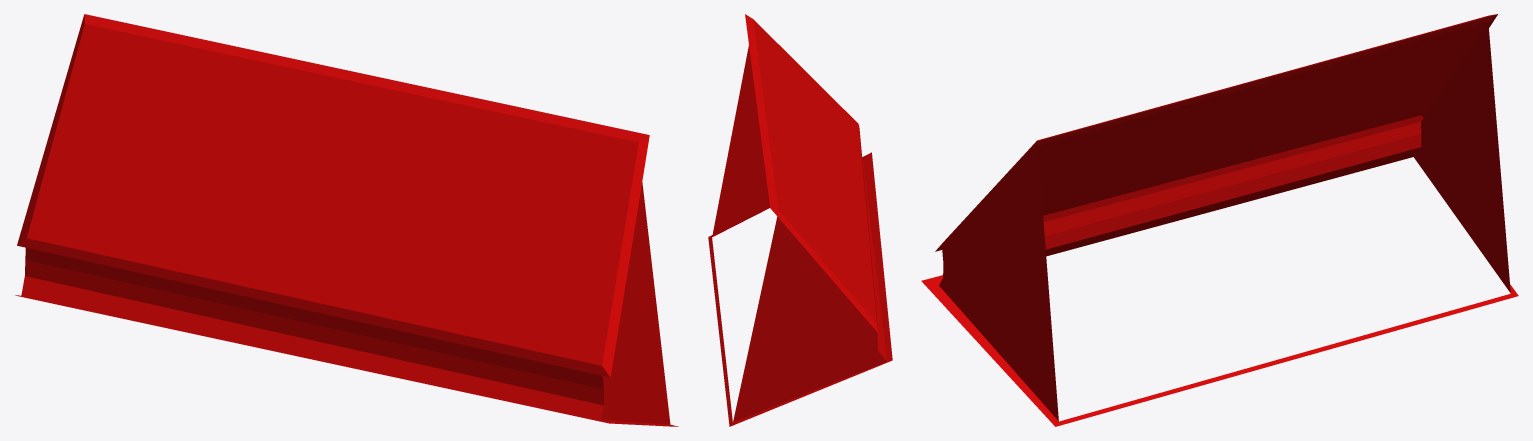
Rendered from rightCase.glb.
3 views of the same model, side by side, from view 1: azimuth 30°, elevation 25°; view 2: azimuth 150°, elevation 25°; view 3: azimuth 270°, elevation 25° (orthographic). The views are drawn at different scales.
Parts seen in each view (by area): view 1: CountachRightPopupCase; view 2: CountachRightPopupCase; view 3: CountachRightPopupCase.
Part boxes in pixels (x1,y1,x2,y2): CountachRightPopupCase: (15, 14, 678, 426); CountachRightPopupCase: (708, 14, 892, 426); CountachRightPopupCase: (921, 14, 1518, 426).
Size of the model in its own units: 3.88 by 2.49 by 5.03.
